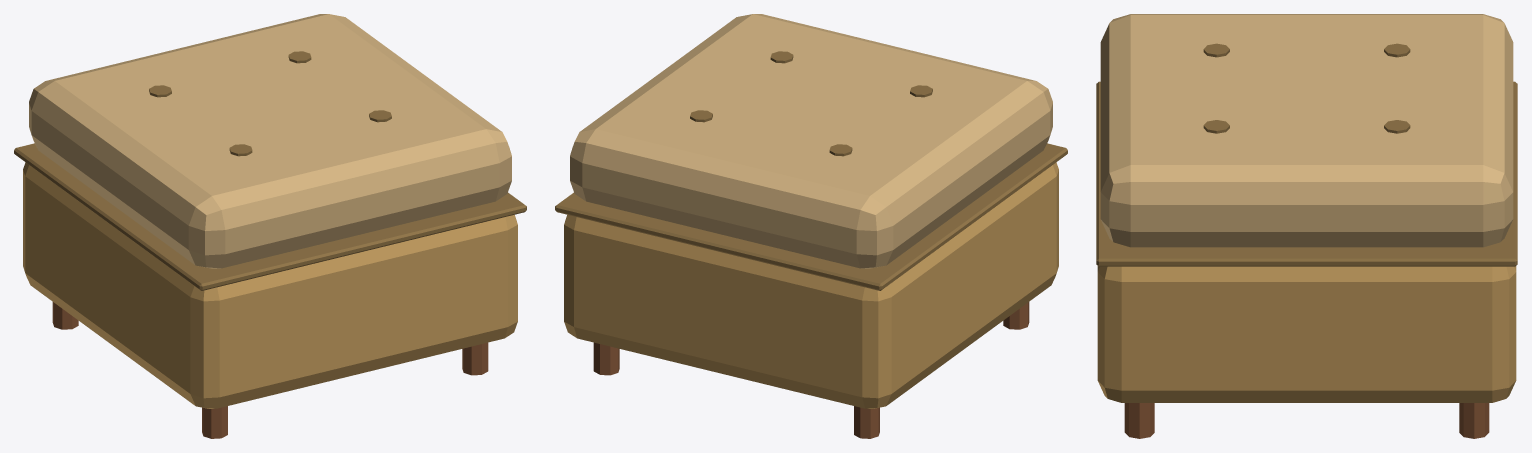
The model's file is ottoman.glb.
The picture shows the model from 3 angles, left to right: view 1: azimuth 30°, elevation 25°; view 2: azimuth 150°, elevation 25°; view 3: azimuth 270°, elevation 25°; orthographic projection. The views are drawn at different scales.
Parts seen in each view (by area): view 1: ottoman_Body; view 2: ottoman_Body; view 3: ottoman_Body.
Part boxes in pixels (bbox=[...]): ottoman_Body: bbox=[14, 14, 526, 438]; ottoman_Body: bbox=[555, 14, 1067, 438]; ottoman_Body: bbox=[1096, 14, 1517, 438].
Size of the model in its own units: 0.7 by 0.5 by 0.696.
